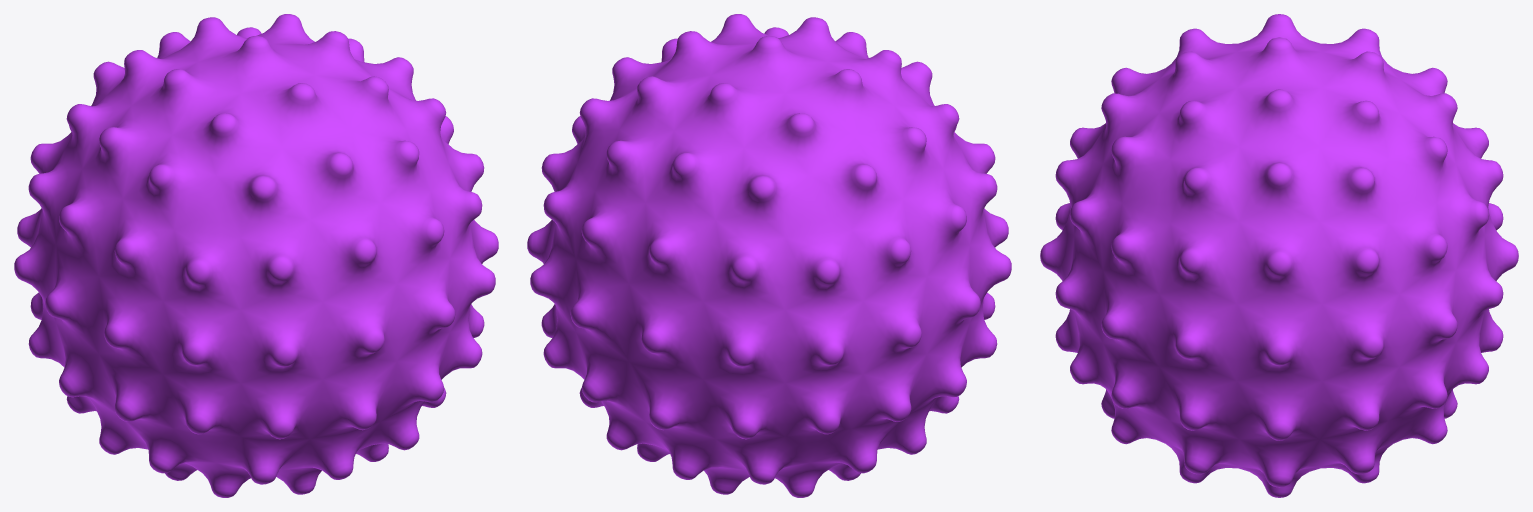
The model's file is Virus.glb.
The picture shows the model from 3 angles, left to right: view 1: azimuth 30°, elevation 25°; view 2: azimuth 150°, elevation 25°; view 3: azimuth 270°, elevation 25°; orthographic projection.
Visible parts, largest first — view 1: Virus; view 2: Virus; view 3: Virus.
Part boxes in pixels (x1,y1,x2,y2): Virus: (14,14,498,497); Virus: (527,14,1011,497); Virus: (1040,14,1518,497).
Bounding box in the file's own units: 1.83 × 1.83 × 1.83.
